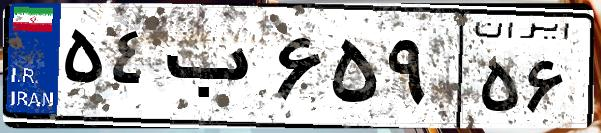4: (110, 28, 158, 98)
5: (330, 28, 385, 110), (57, 26, 110, 100), (475, 38, 525, 113)
6: (270, 28, 330, 110), (525, 38, 570, 115)
9: (385, 28, 445, 110)
ب: (158, 20, 270, 120)
